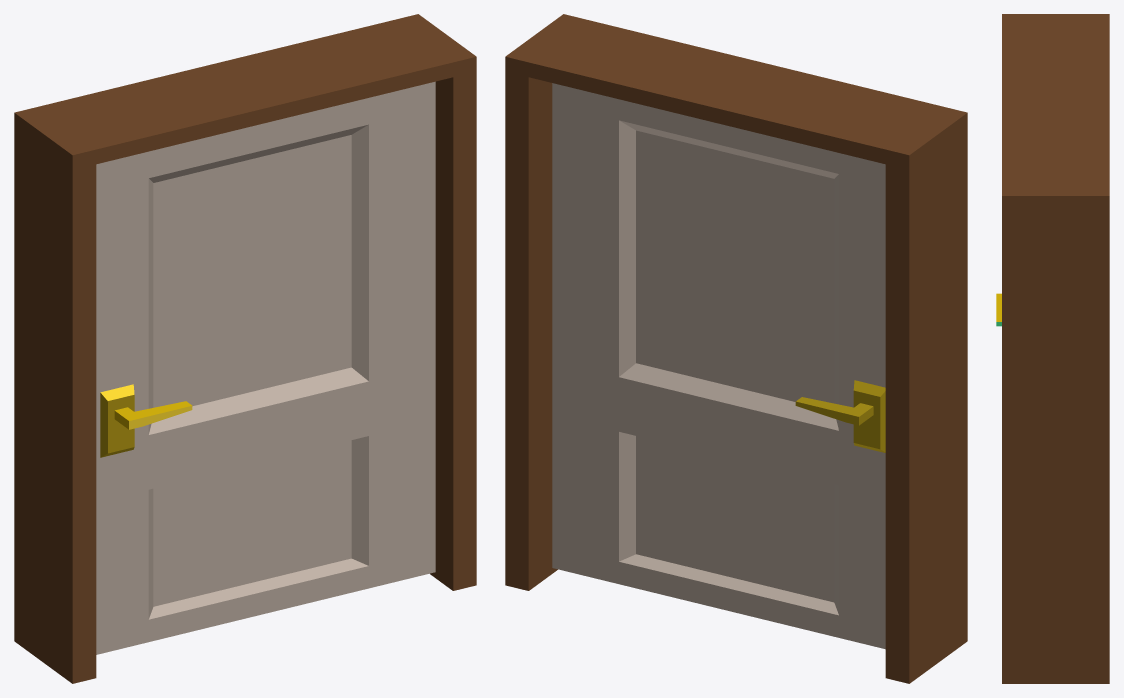
Rendered from Rick_Door.fbx.
3 renders of one model, left to right at view 1: azimuth 30°, elevation 25°; view 2: azimuth 150°, elevation 25°; view 3: azimuth 270°, elevation 25°, orthographic. The views are drawn at different scales.
Visible parts, largest first — view 1: door, doorway; view 2: door, doorway; view 3: doorway, door.
Part boxes in pixels (x1,y1,x2,y2): door: [96, 81, 435, 654]; doorway: [14, 14, 476, 683]; door: [552, 83, 885, 649]; doorway: [505, 14, 967, 683]; doorway: [1002, 14, 1109, 683]; door: [996, 293, 1001, 326].
Size of the model in its own units: 25 by 31.25 by 6.56.
Materials: 1 (1 with a texture image).
